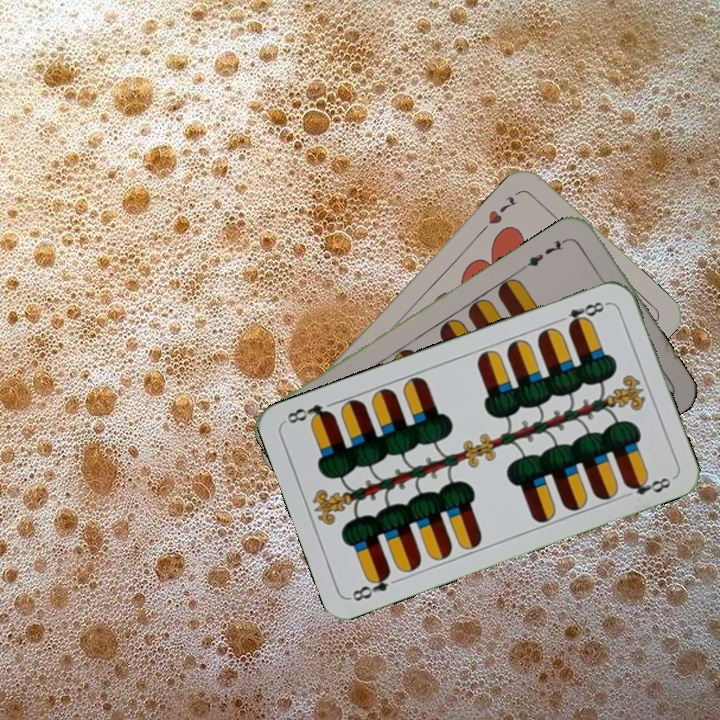E7: (519, 234, 573, 271)
E8: (553, 297, 611, 331), (347, 567, 394, 604)
H7: (484, 192, 519, 227)
